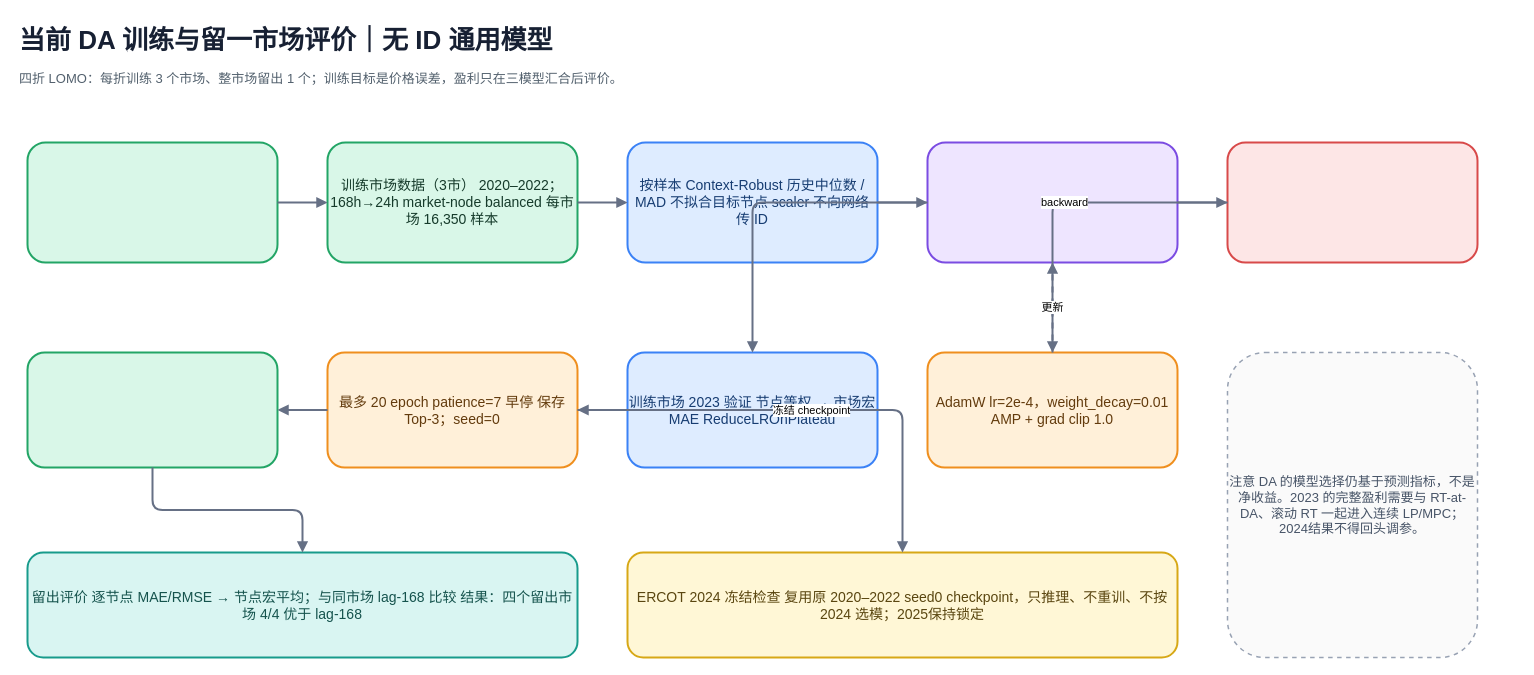
This 1534x675 diagram has some shape labels left out. The shapes that lost their labels are listed below. From the top down, each one's centre as x and y in pixels, then its label:
At pixel 152 202: "LOMO 折定义 CAISO / ERCOT / NYISO / PJM 每次选 1 个完整市场作为未见目标".
At pixel 1052 202: "DA 无 ID 模型 F1 来源注意力 全部参数可训练".
At pixel 1352 202: "训练损失：MAE 标准化 24h 价格逐元素 L1 盈利、LP/MPC 不反向传播".
At pixel 152 409: "留出市场 2023 零样本推理 显式删除 node_id / market_id 整市场未参加训练".
